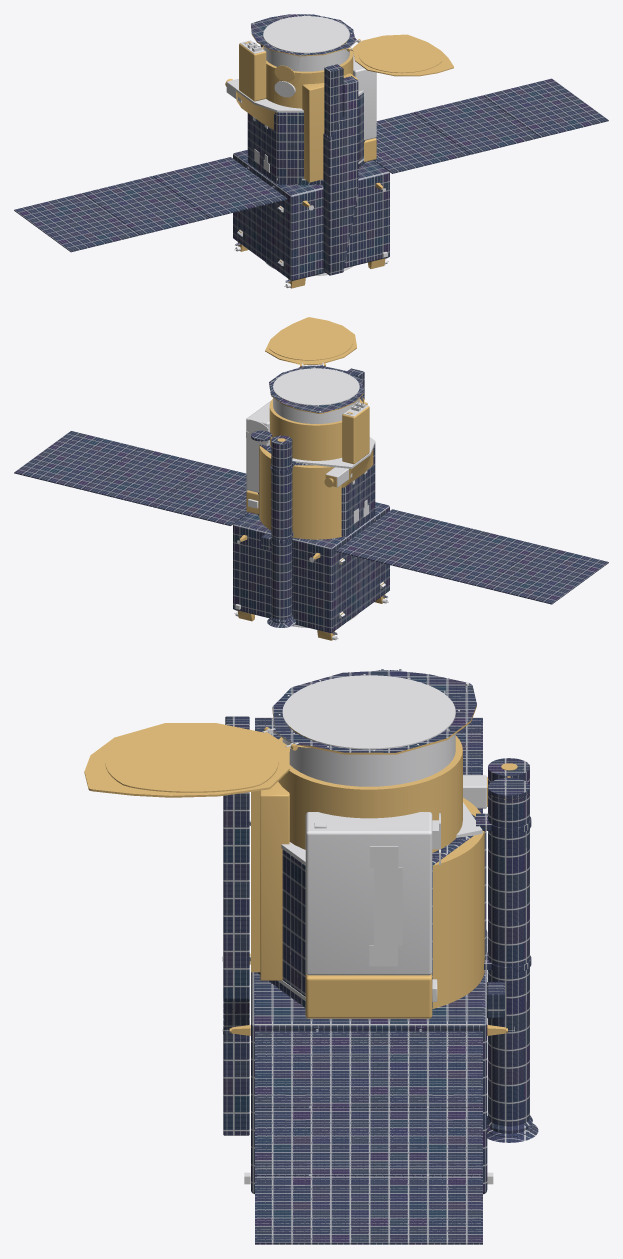
Rendered from hinode.glb.
3 views of the same model, one above another, from view 1: azimuth 30°, elevation 25°; view 2: azimuth 150°, elevation 25°; view 3: azimuth 270°, elevation 25° (orthographic). The views are drawn at different scales.
Visible parts, largest first — view 1: Fake; view 2: Fake; view 3: Fake.
Boxes of the visible parts, x1,y1,x2,y2 form: Fake: [14, 14, 608, 288]; Fake: [14, 317, 608, 640]; Fake: [84, 669, 538, 1244].
Bounding box in the file's own units: 10 × 4 × 3.65.
Materials: 3 (1 with a texture image).
